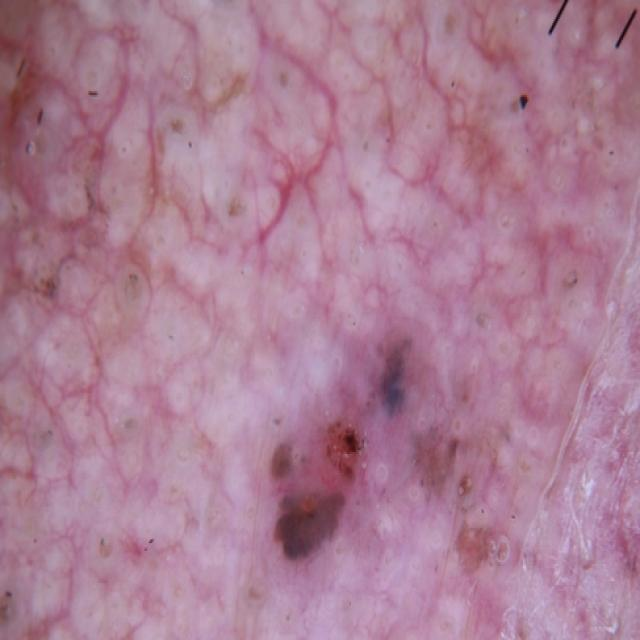Carcinoma: (218, 285, 515, 640)
